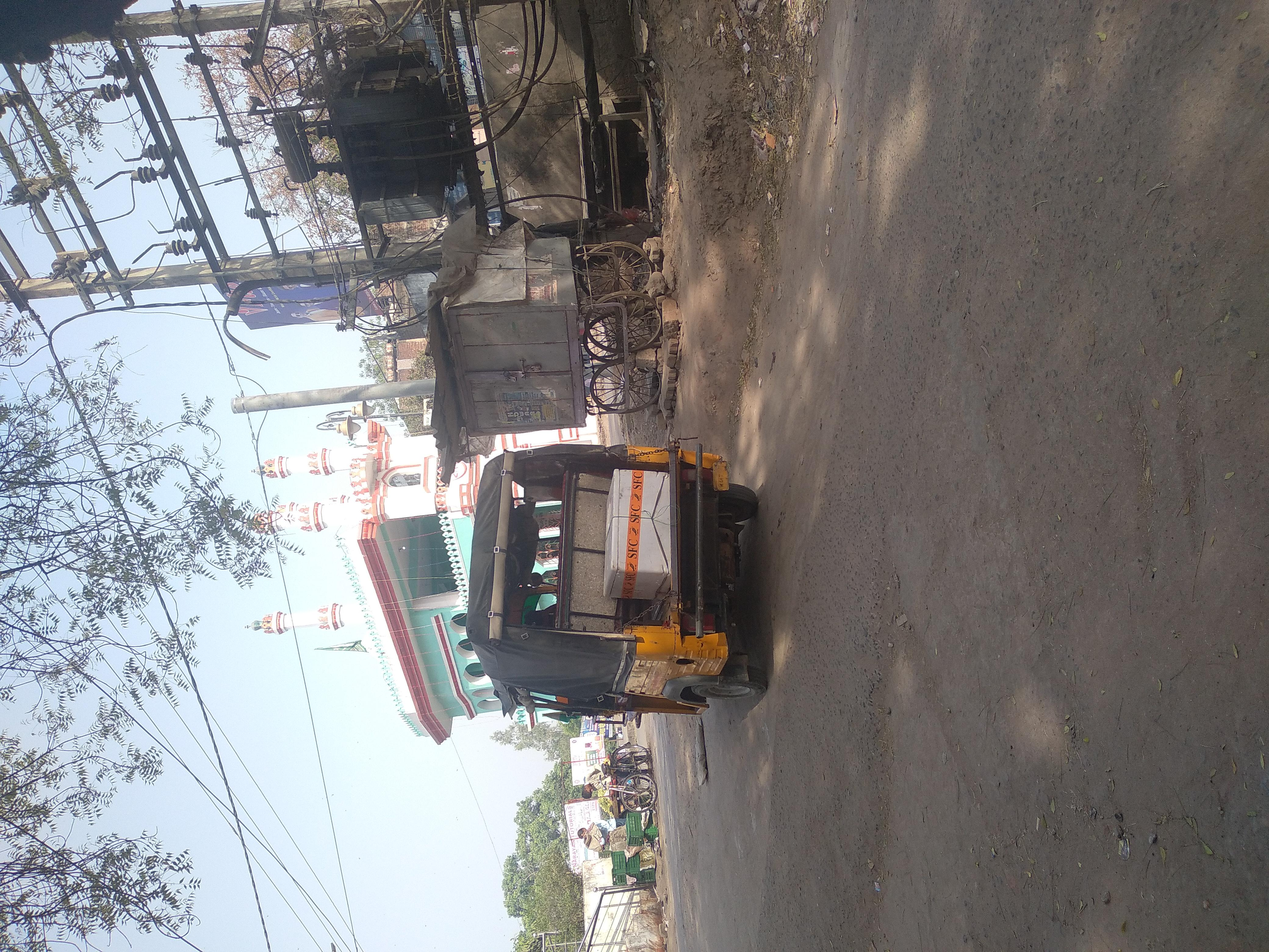Auto: (277, 343, 720, 595)
